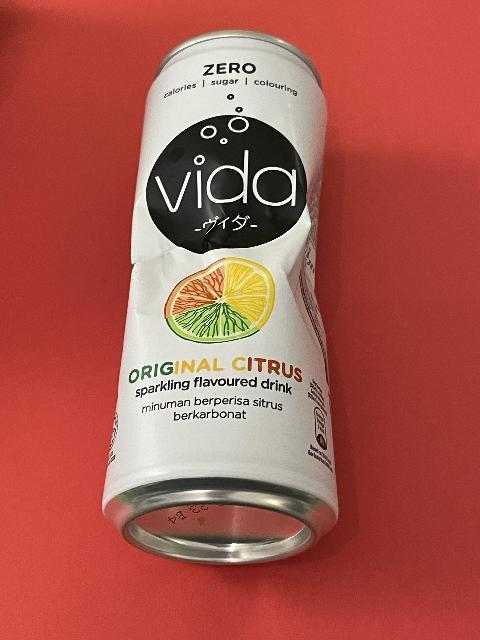drinkcan: (100, 26, 340, 566)
